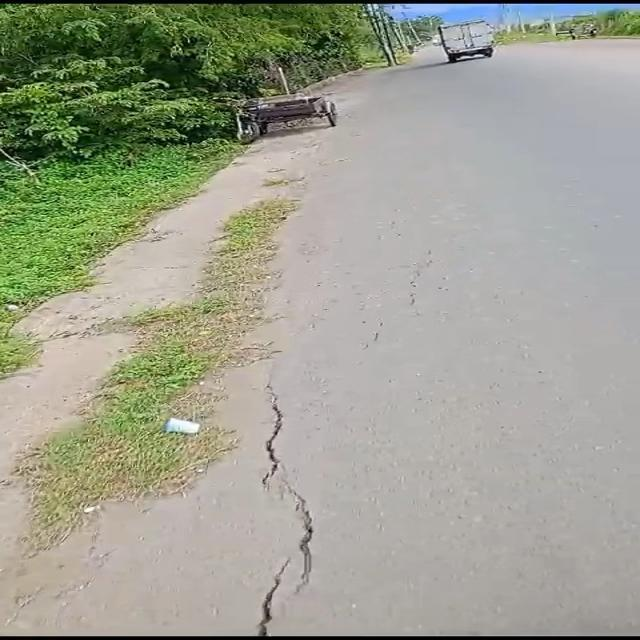Memanjang: (248, 379, 330, 640)
